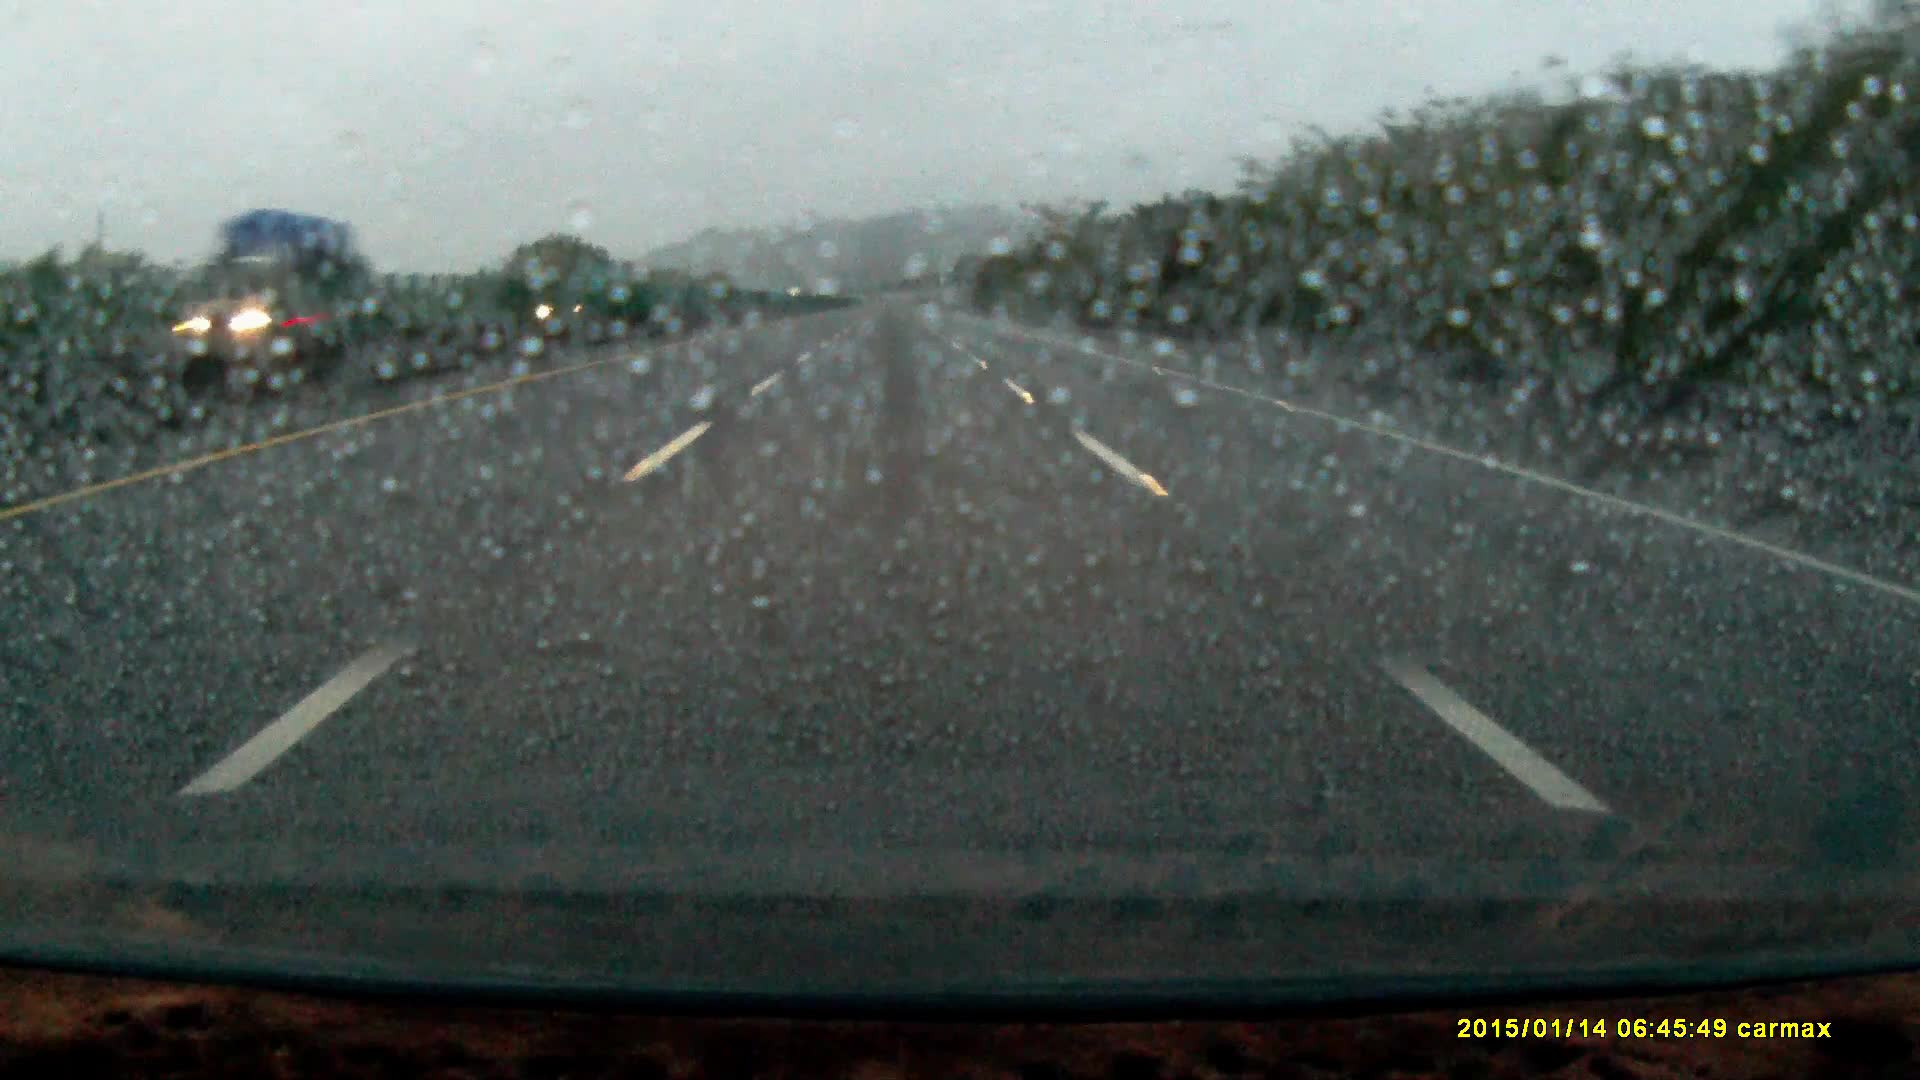vehicle: (179, 211, 345, 352), (537, 264, 625, 328)
